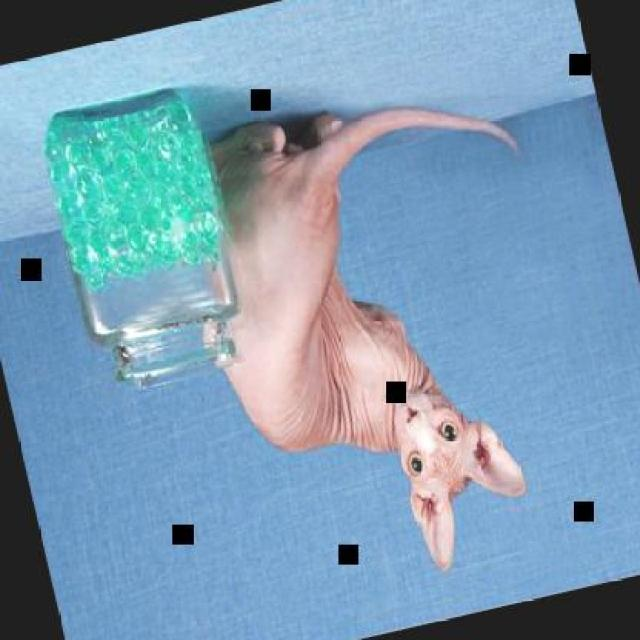cat: (171, 64, 609, 610)
